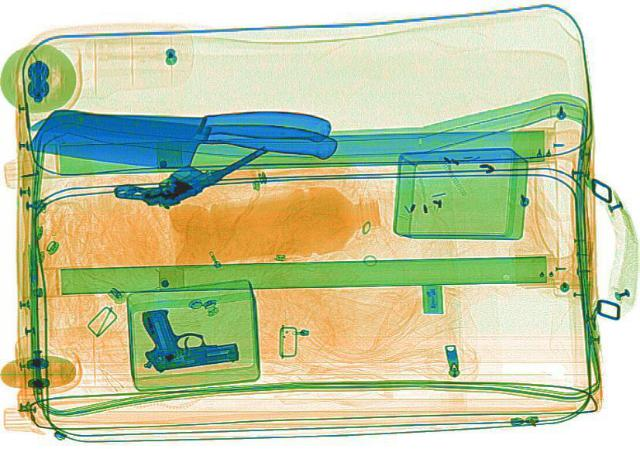Gun: (103, 131, 279, 219), (128, 297, 242, 374)
Knife: (24, 98, 346, 188), (31, 106, 335, 146)
